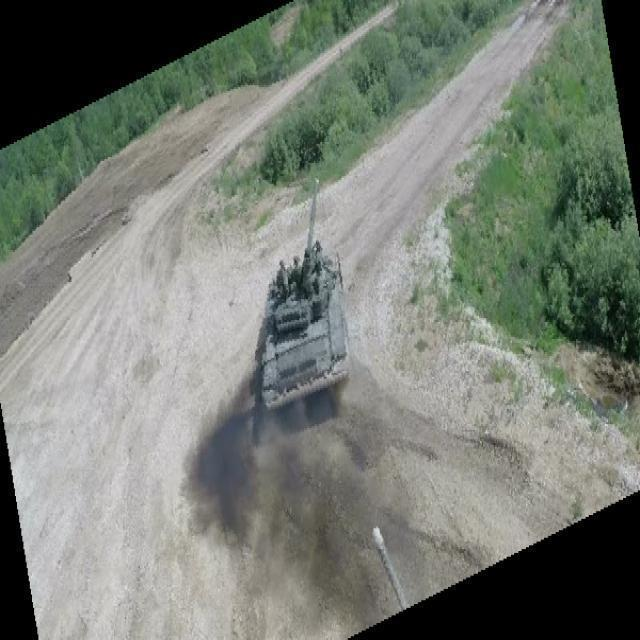MIL_MBT: (259, 182, 351, 413)
